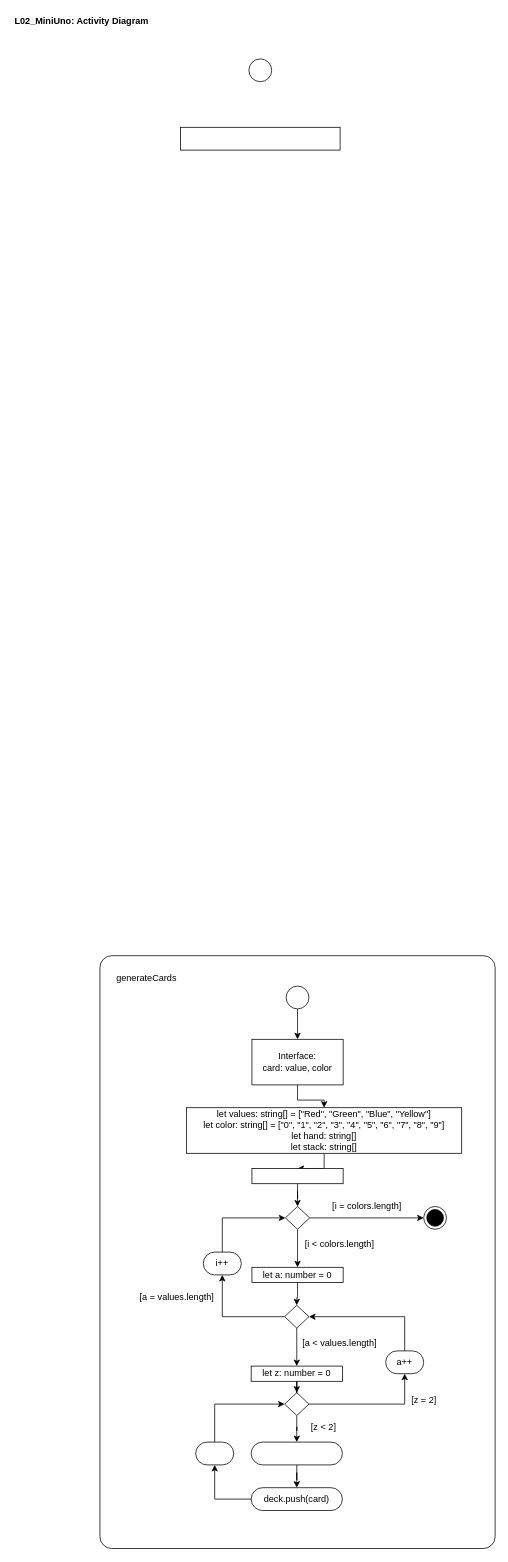
Image size: 508x1562. Some labels were removed from this diagram. The shapes that lost their labels are listed below. From the top down, each one's centre as x and y in pixels, then its label:
pixel 260 138: let sign = prompt("Kartenanzahl");
pixel 297 1176: let i : number = 0
pixel 214 1453: z++
pixel 296 1453: Generate Card
